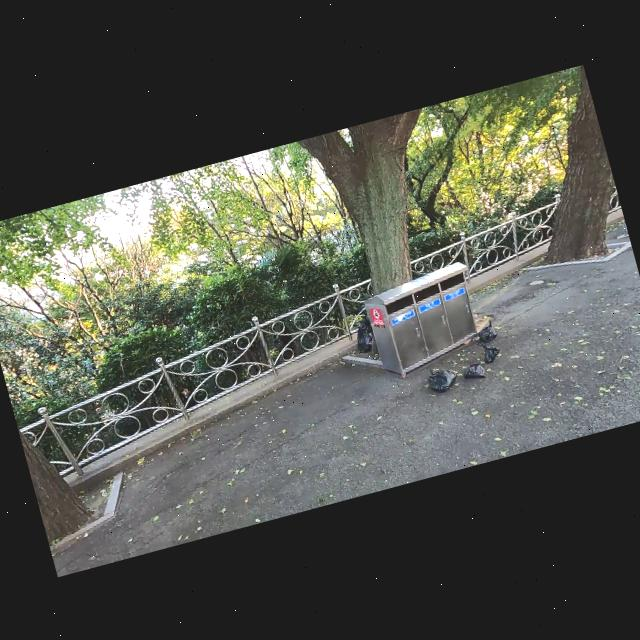trash: (423, 359, 461, 396), (345, 314, 376, 356), (458, 358, 488, 384), (474, 318, 502, 344), (476, 340, 504, 366)
